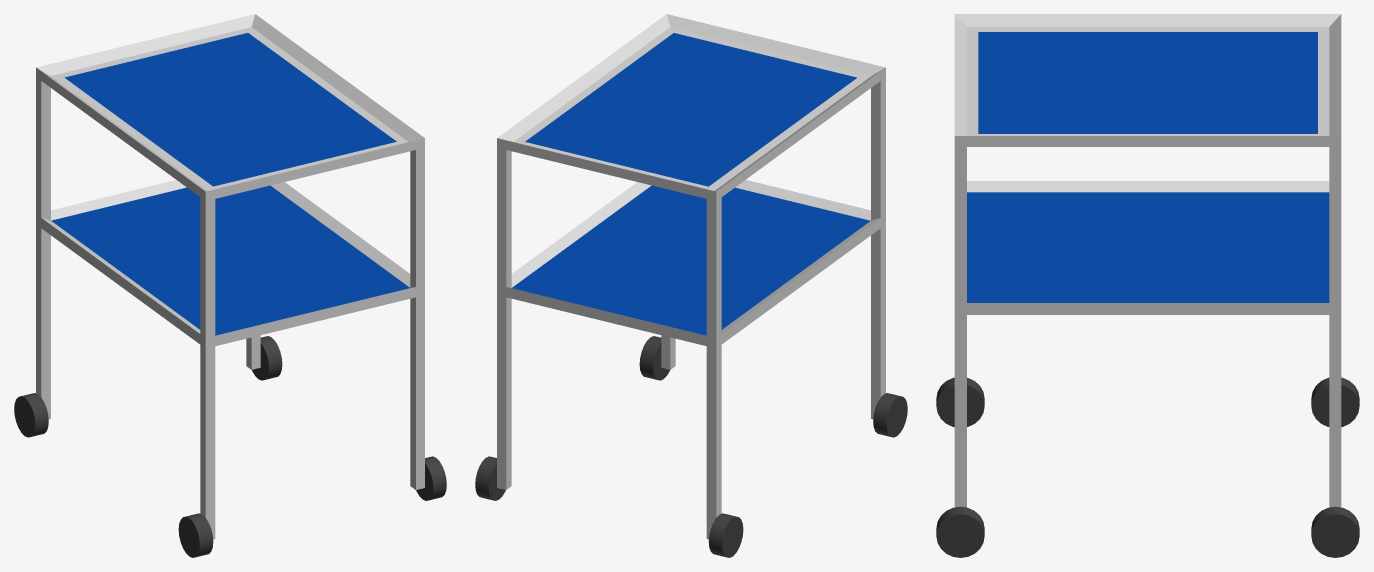
Rendered from Trolley.fbx.
The picture shows the model from 3 angles, left to right: view 1: azimuth 30°, elevation 25°; view 2: azimuth 150°, elevation 25°; view 3: azimuth 270°, elevation 25°; orthographic projection. The views are drawn at different scales.
Parts seen in each view (by area): view 1: pCube1, pCylinder2, pCylinder4, pCylinder1, pCylinder3; view 2: pCube1, pCylinder4, pCylinder2, pCylinder3, pCylinder1; view 3: pCube1, pCylinder1, pCylinder3, pCylinder2, pCylinder4.
Part boxes in pixels (left/top/right/bottom): pCube1: left=36, top=14, right=424, bottom=539; pCylinder2: left=14, top=393, right=48, bottom=437; pCylinder4: left=178, top=513, right=213, bottom=557; pCylinder1: left=252, top=336, right=282, bottom=380; pCylinder3: left=416, top=456, right=446, bottom=500; pCube1: left=497, top=14, right=885, bottom=539; pCylinder4: left=873, top=393, right=907, bottom=437; pCylinder2: left=708, top=513, right=743, bottom=557; pCylinder3: left=639, top=336, right=669, bottom=380; pCylinder1: left=475, top=456, right=505, bottom=500; pCube1: left=954, top=14, right=1341, bottom=507; pCylinder1: left=1311, top=506, right=1359, bottom=557; pCylinder3: left=936, top=506, right=984, bottom=557; pCylinder2: left=1311, top=377, right=1359, bottom=426; pCylinder4: left=936, top=377, right=984, bottom=427.
Bounding box in the file's own units: 13.45 × 18.91 × 17.51.
